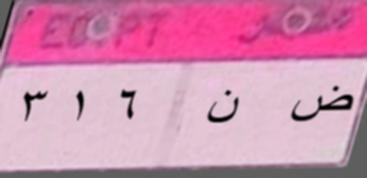1: (68, 84, 91, 126)
3: (19, 86, 48, 128)
6: (118, 84, 140, 126)
daad: (291, 76, 354, 134)
noon: (200, 84, 242, 126)
